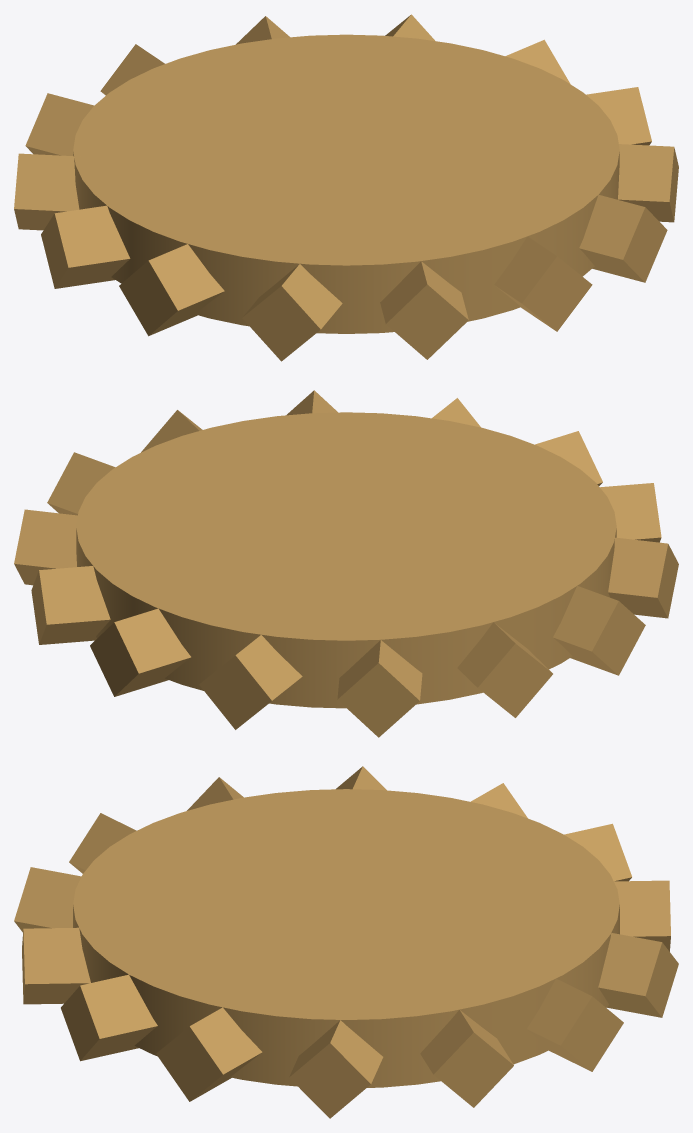
File: Studio.glb
3 renders of one model, top to bottom at view 1: azimuth 30°, elevation 25°; view 2: azimuth 150°, elevation 25°; view 3: azimuth 270°, elevation 25°, orthographic.
Parts seen in each view (by area): view 1: Ratchet hub, Ratchet tooth (×14); view 2: Ratchet hub, Ratchet tooth (×14); view 3: Ratchet hub, Ratchet tooth (×14).
Part boxes in pixels (box(x1,y1,x2,y2)): Ratchet hub: box(73, 34, 619, 333); Ratchet tooth (×14): box(14, 14, 678, 361); Ratchet hub: box(76, 412, 616, 708); Ratchet tooth (×14): box(14, 390, 678, 737); Ratchet hub: box(73, 789, 619, 1087); Ratchet tooth (×14): box(14, 766, 678, 1118).
Size of the model in its own units: 0.4172 by 0.052 by 0.4136.
